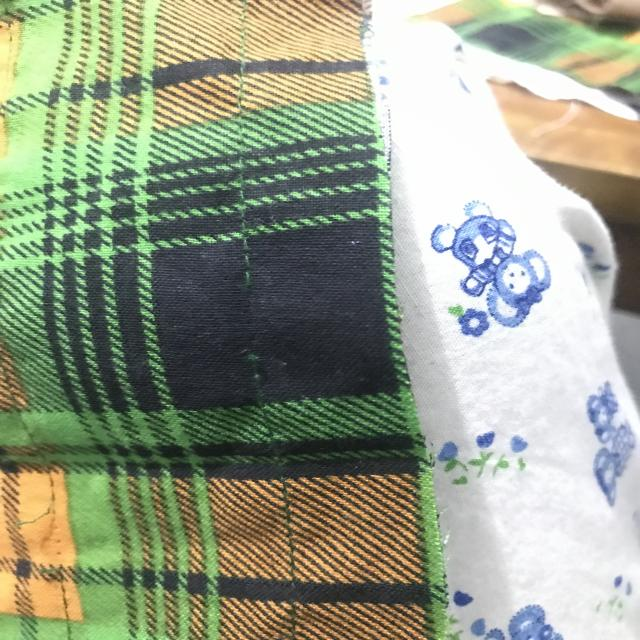broken: (229, 258, 276, 381)
